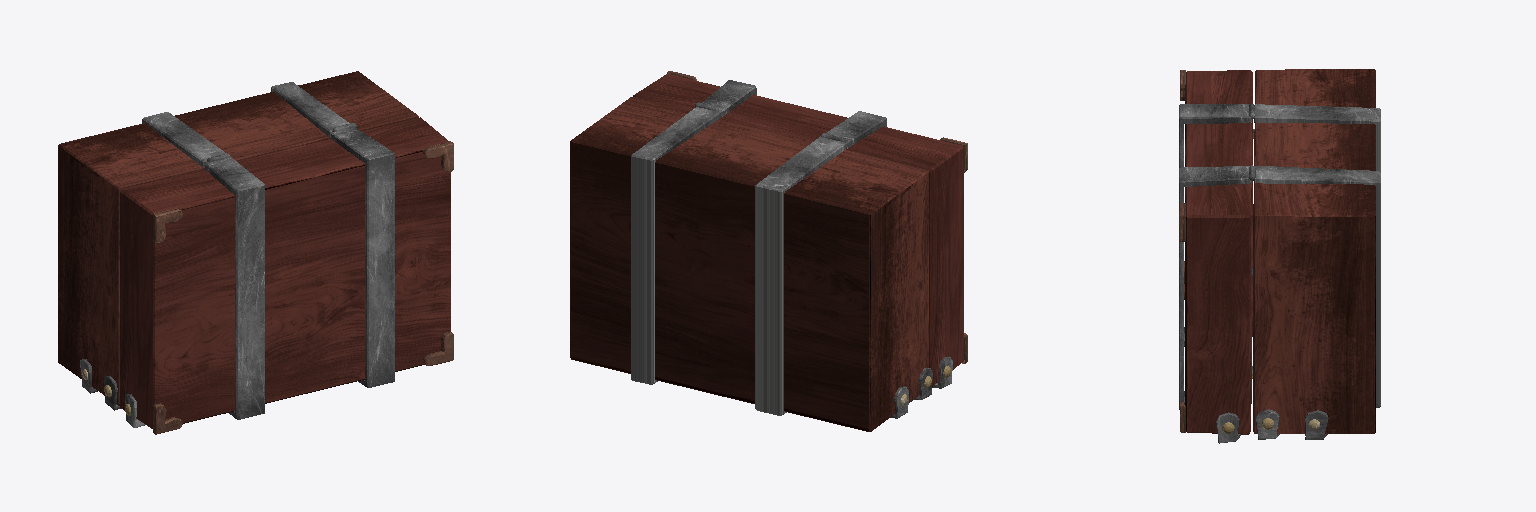
3 renders of one model, left to right at view 1: azimuth 30°, elevation 25°; view 2: azimuth 150°, elevation 25°; view 3: azimuth 270°, elevation 25°, orthographic.
Parts seen in each view (by area): view 1: CHESTSandTRUNKS; view 2: CHESTSandTRUNKS; view 3: CHESTSandTRUNKS.
Part boxes in pixels (x1,y1,x2,y2): CHESTSandTRUNKS: (58,71,453,434); CHESTSandTRUNKS: (570,71,967,431); CHESTSandTRUNKS: (1179,69,1380,443).
Bounding box in the file's own units: 4.13 × 3.09 × 2.3.
Materials: 2 (2 with a texture image).